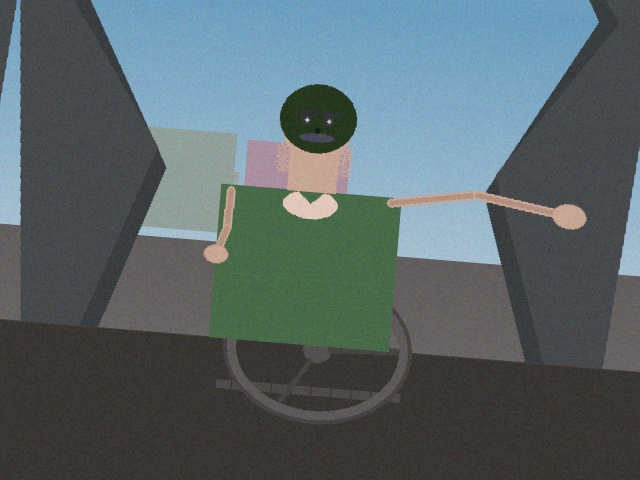hands_off_wheel: (541, 173, 591, 218)
